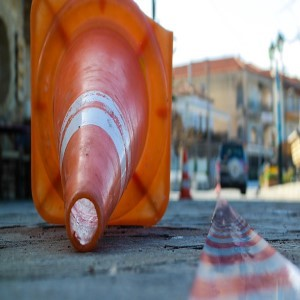traffic cone: (30, 1, 173, 253)
